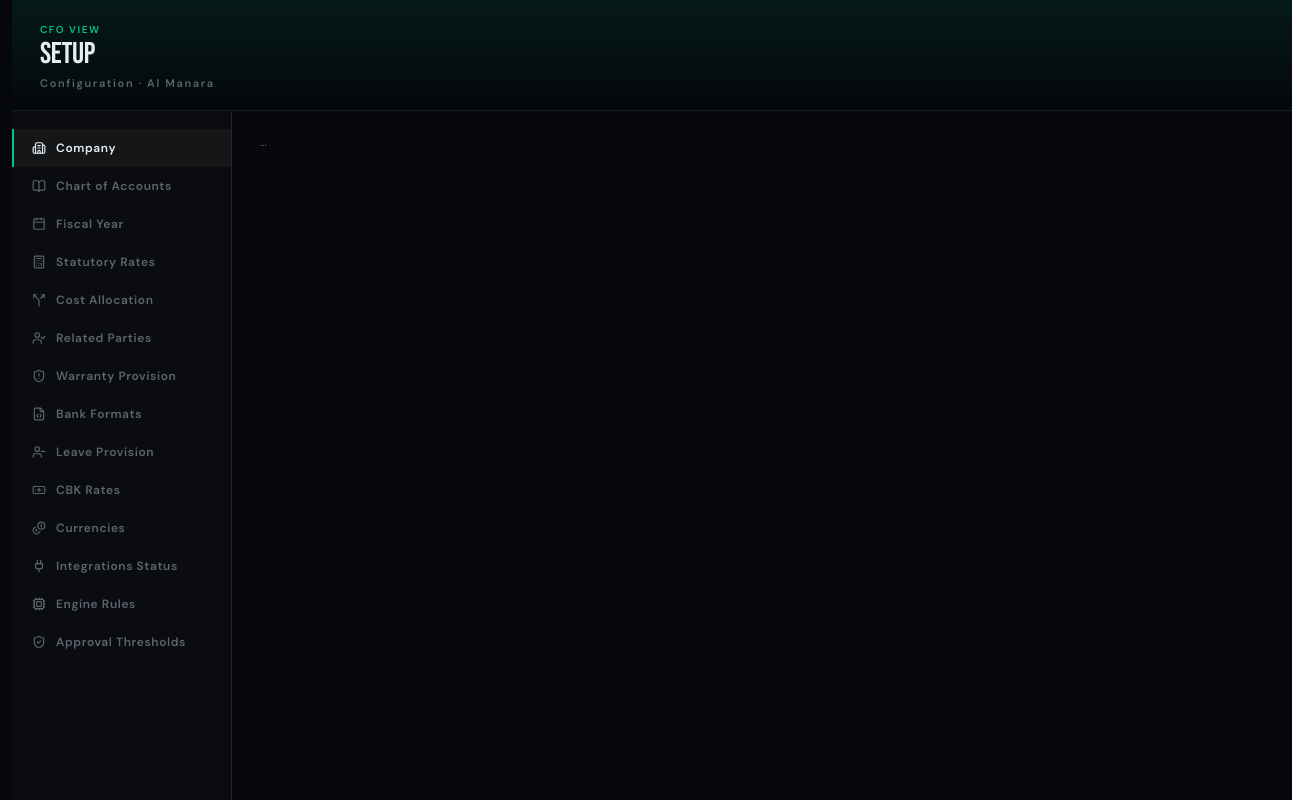
HASEEB-448 — SetupScreen onboarding polish › CoA templates: changing industry auto-selects matching template
This screenshot has width=1292, height=800.
Click the button "Chart of Accounts" at (122, 186), box [12,166,231,204]
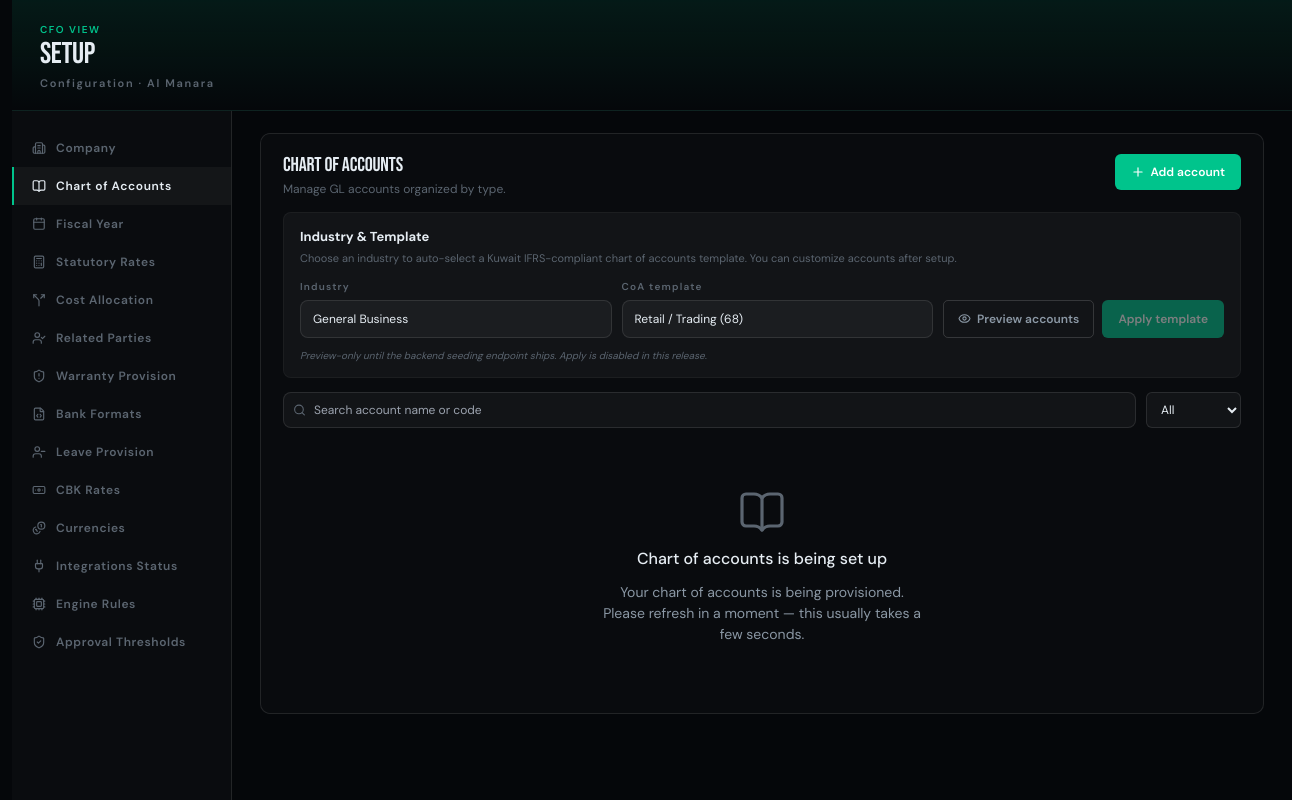
// Change to IT — stub returns templateId 'it_software'.
Select "IT / Software Company" in the dropdown with test id "coa-industry-select" at (456, 318), box [300,300,612,338]
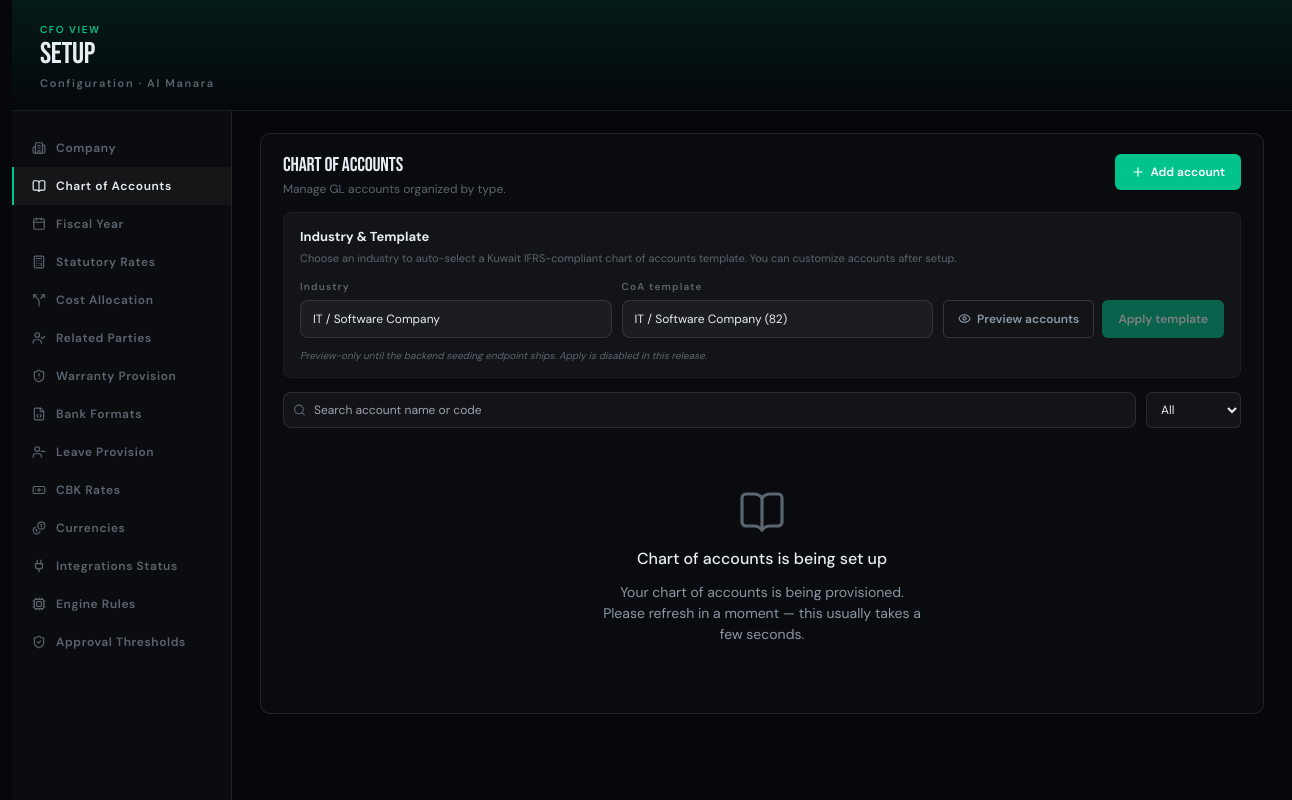
Result: the dropdown with test id "coa-template-select" shows "IT / Software Company (82)" at [622,300,933,338]
